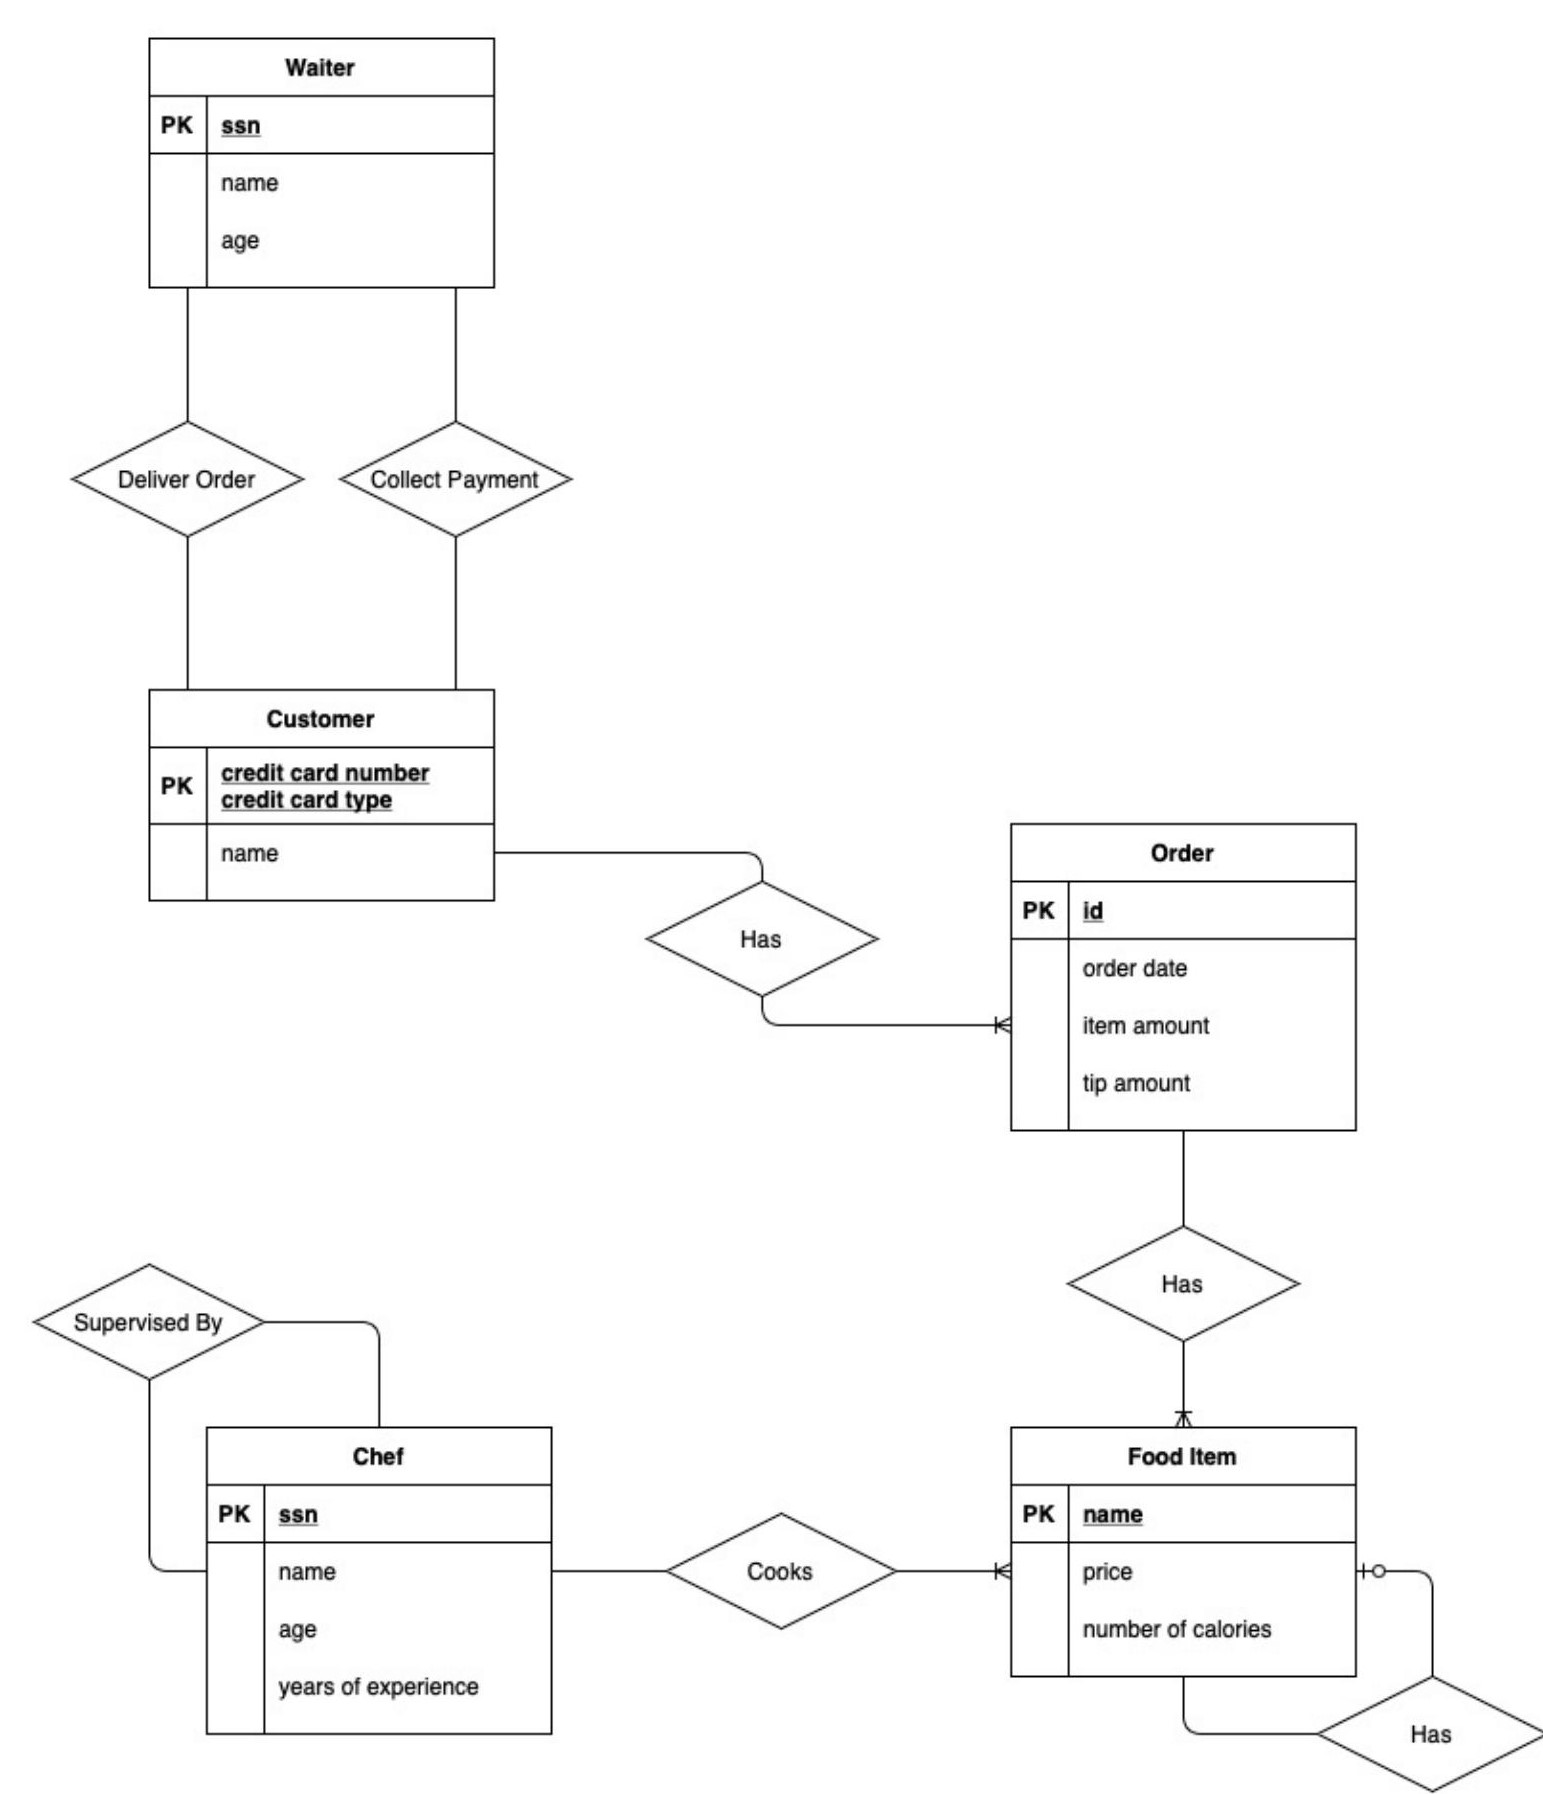Entity: (205, 1425, 556, 1738), (1007, 821, 1358, 1133), (147, 35, 498, 291), (1007, 1423, 1358, 1680), (147, 686, 498, 903)
Relationship: (337, 420, 575, 537), (31, 1262, 264, 1381), (643, 882, 882, 998), (70, 421, 305, 537), (1065, 1227, 1300, 1342), (665, 1512, 894, 1629), (1319, 1677, 1543, 1794)
